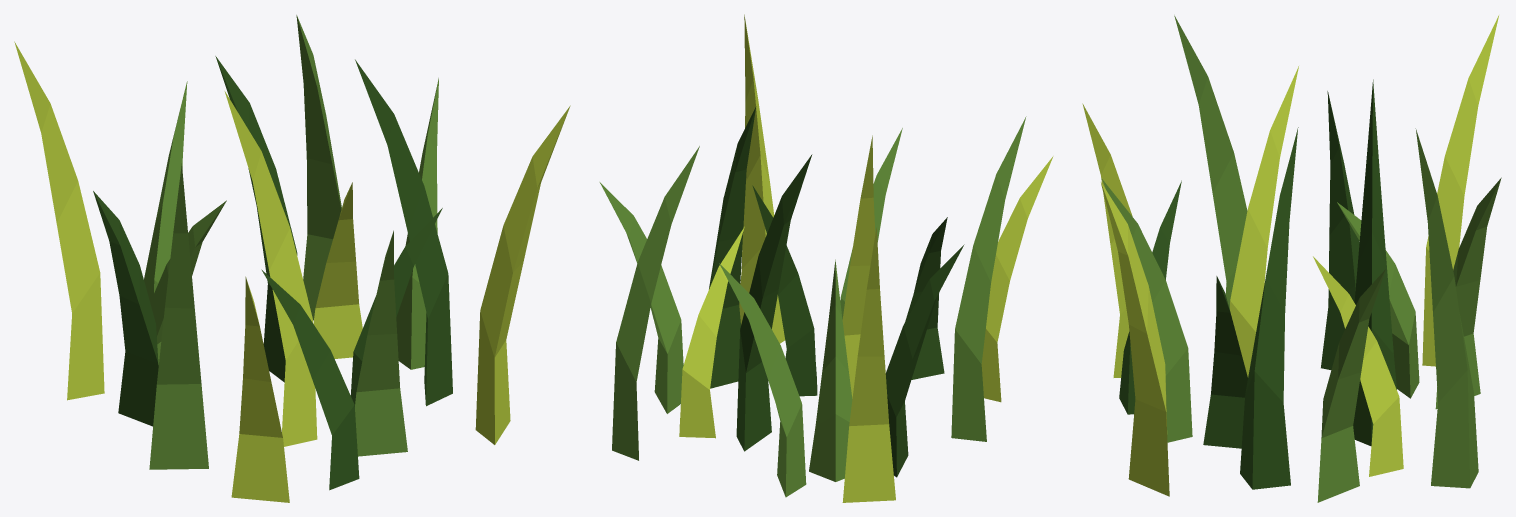
The model's file is lühem muru lilledeta.fbx.
The picture shows the model from 3 angles, left to right: view 1: azimuth 30°, elevation 25°; view 2: azimuth 150°, elevation 25°; view 3: azimuth 270°, elevation 25°; orthographic projection. The views are drawn at different scales.
Parts seen in each view (by area): view 1: mur4.001; view 2: mur4.001; view 3: mur4.001.
Part boxes in pixels (bbox=[...]): mur4.001: bbox=[14, 15, 570, 502]; mur4.001: bbox=[599, 14, 1053, 502]; mur4.001: bbox=[1082, 15, 1501, 502].
Bounding box in the file's own units: 108 × 92.04 × 107.
